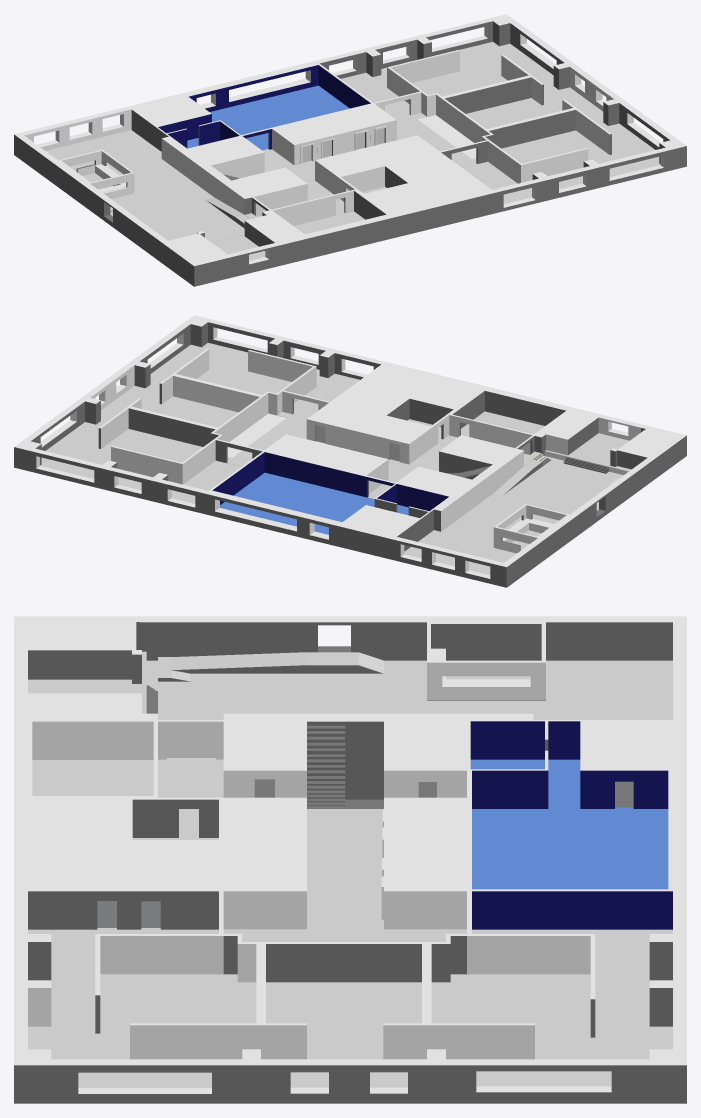
Rendered from sportcenter.gltf.
3 views of the same model, one above another, from view 1: azimuth 30°, elevation 25°; view 2: azimuth 150°, elevation 25°; view 3: azimuth 270°, elevation 25° (orthographic). The views are drawn at different scales.
Visible parts, largest first — view 1: root; view 2: root; view 3: root.
Boxes of the visible parts, bbox=[...] form: root: bbox=[14, 14, 686, 286]; root: bbox=[14, 315, 686, 587]; root: bbox=[14, 616, 686, 1103].
Bounding box in the file's own units: 58.11 × 5.2 × 36.81.
Materials: 7 (2 with a texture image).
